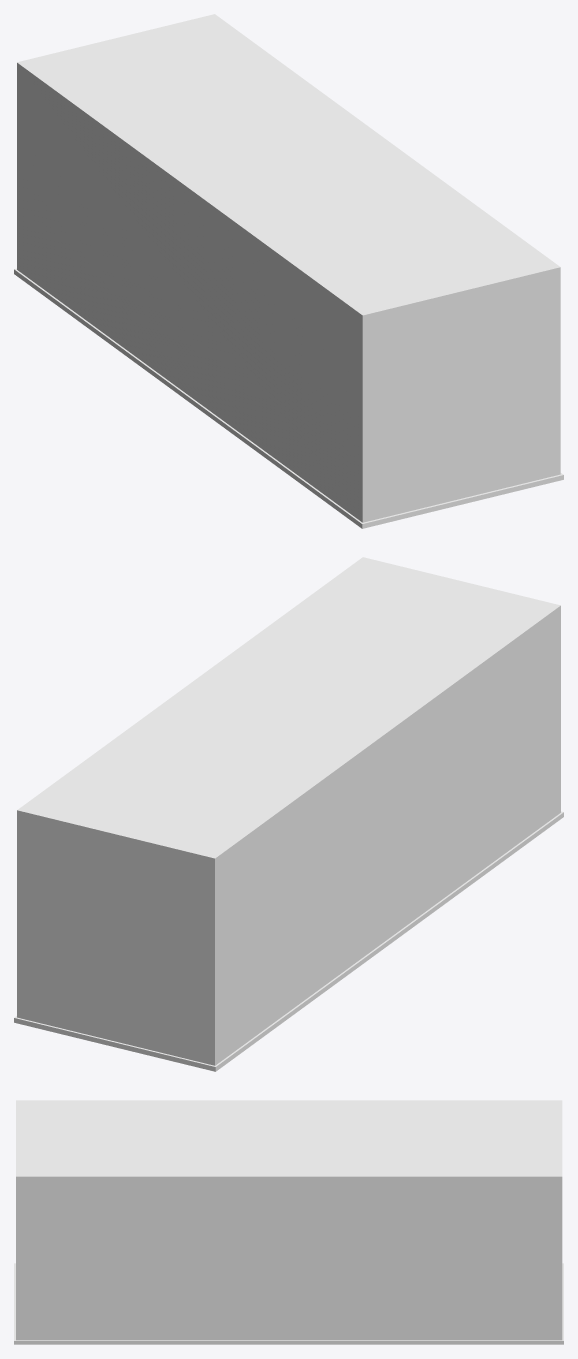
The model's file is cornellBoxClose2.obj.
3 renders of one model, top to bottom at view 1: azimuth 30°, elevation 25°; view 2: azimuth 150°, elevation 25°; view 3: azimuth 270°, elevation 25°, orthographic. The views are drawn at different scales.
Parts seen in each view (by area): view 1: cornellBoxClose; view 2: cornellBoxClose; view 3: cornellBoxClose.
Part boxes in pixels (x1=…): cornellBoxClose: x1=14, y1=14, x2=563, y2=528; cornellBoxClose: x1=14, y1=557, x2=563, y2=1071; cornellBoxClose: x1=14, y1=1100, x2=563, y2=1344.
Size of the model in its own units: 4.4 by 4.42 by 13.16.
